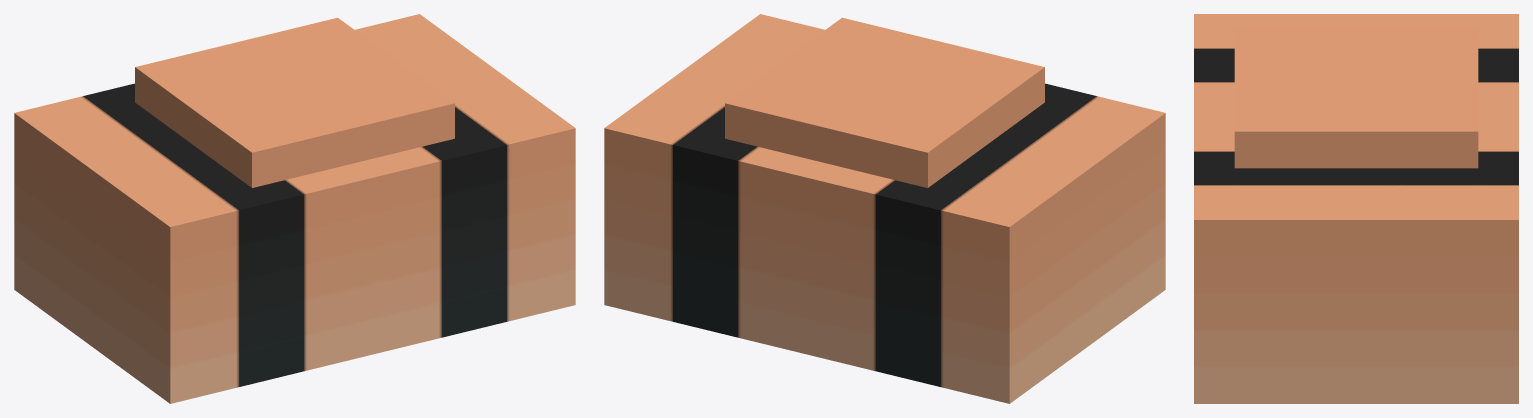
The model's file is Chest064.fbx.
3 views of the same model, side by side, from view 1: azimuth 30°, elevation 25°; view 2: azimuth 150°, elevation 25°; view 3: azimuth 270°, elevation 25° (orthographic). The views are drawn at different scales.
Visible parts, largest first — view 1: Chest064; view 2: Chest064; view 3: Chest064.
Boxes of the visible parts, <box> form: Chest064: <box>14,14,575,403</box>; Chest064: <box>604,14,1165,403</box>; Chest064: <box>1194,14,1518,403</box>.
Size of the model in its own units: 12 by 6 by 8.
